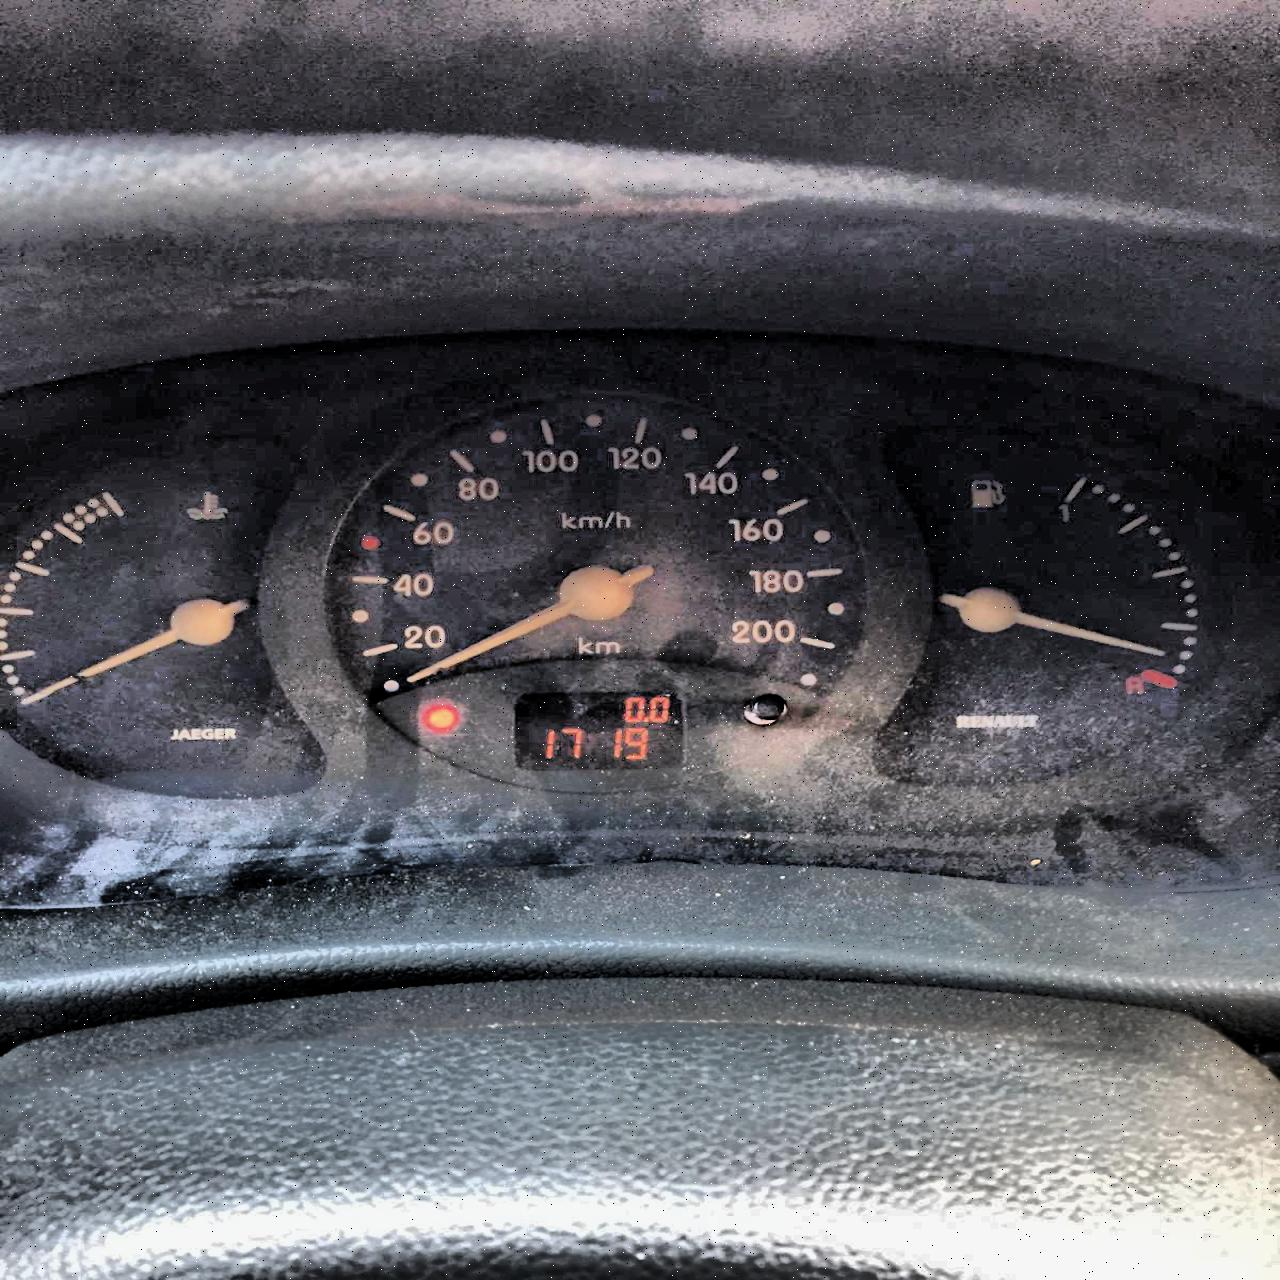-: (644, 716, 648, 722)
0: (647, 696, 668, 722), (624, 696, 644, 722)
1: (612, 728, 621, 757), (545, 729, 553, 758)
7: (561, 728, 580, 758)
9: (624, 728, 646, 758)
odometer: (510, 688, 688, 772)
